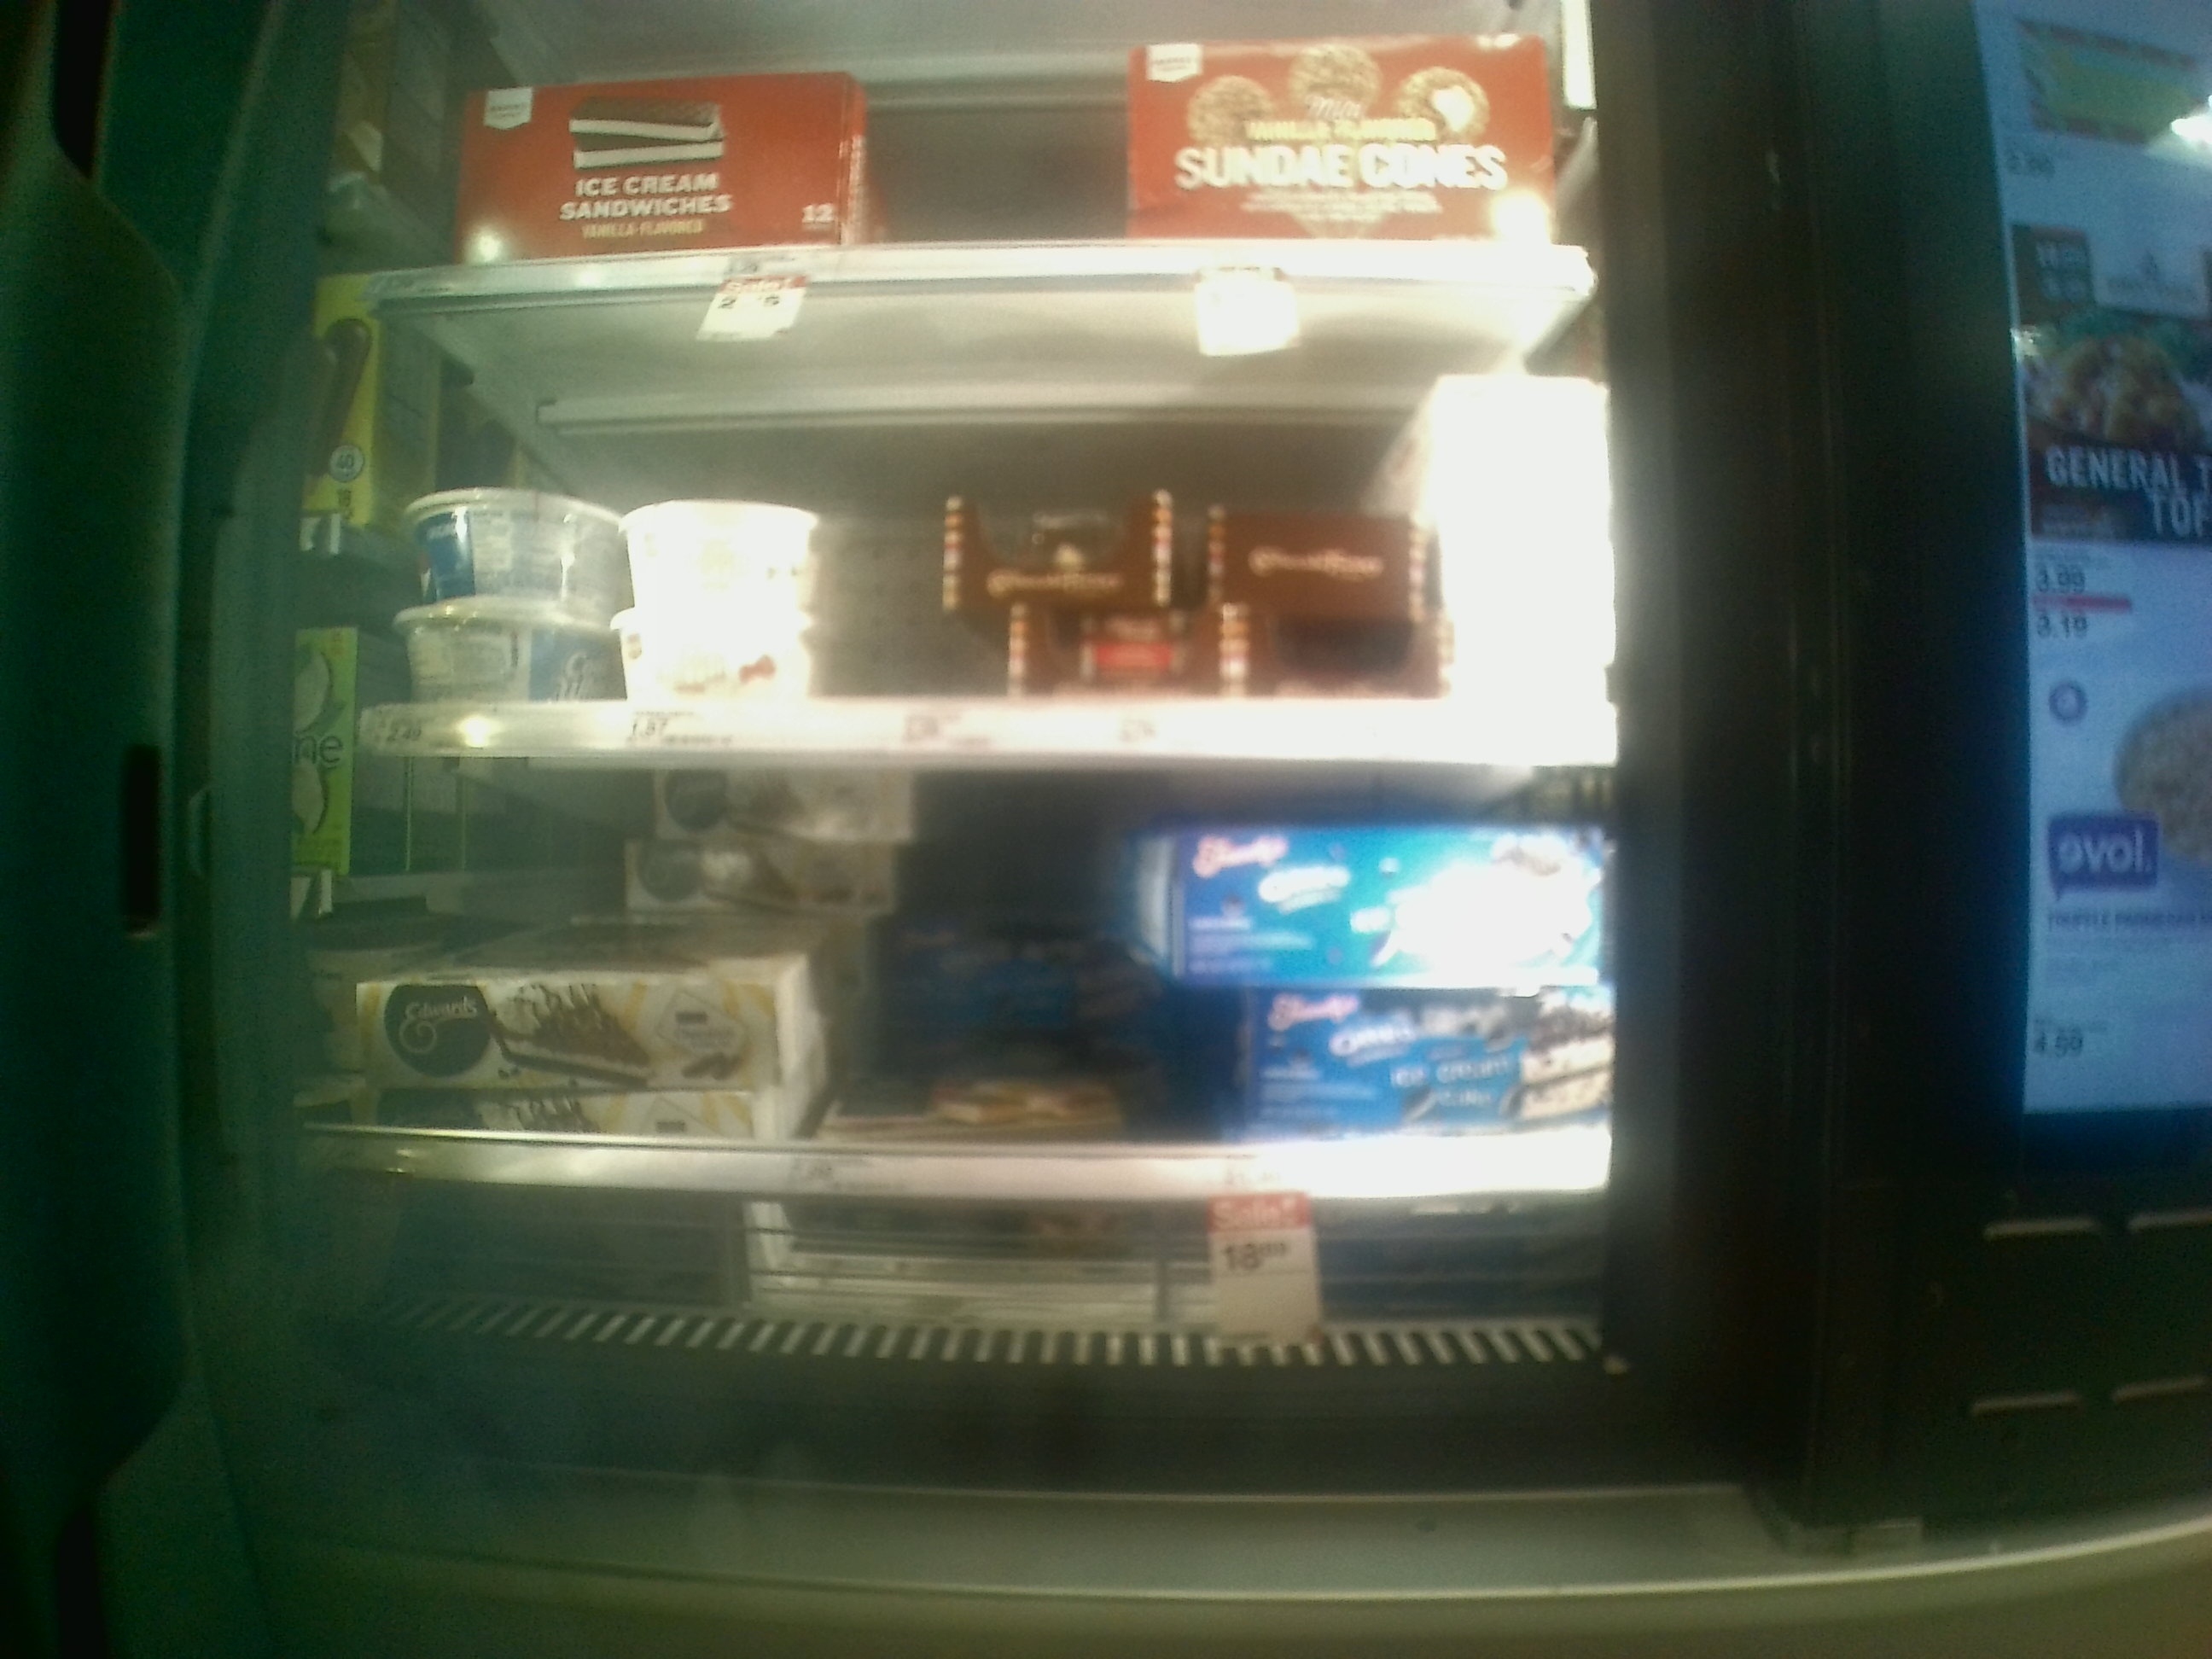shelf: (286, 767, 1651, 1314), (296, 305, 1629, 758)
